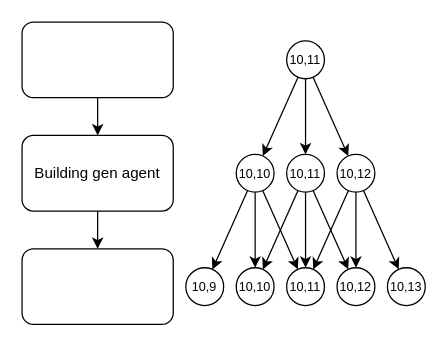
Some shapes in this 447 by 347 pixel diagram are drawn without their labels. Each missing label, with the centre of its shape:
"Building vertical placement agent" goes at (x=97, y=59).
"Height map agent" goes at (x=97, y=286).
